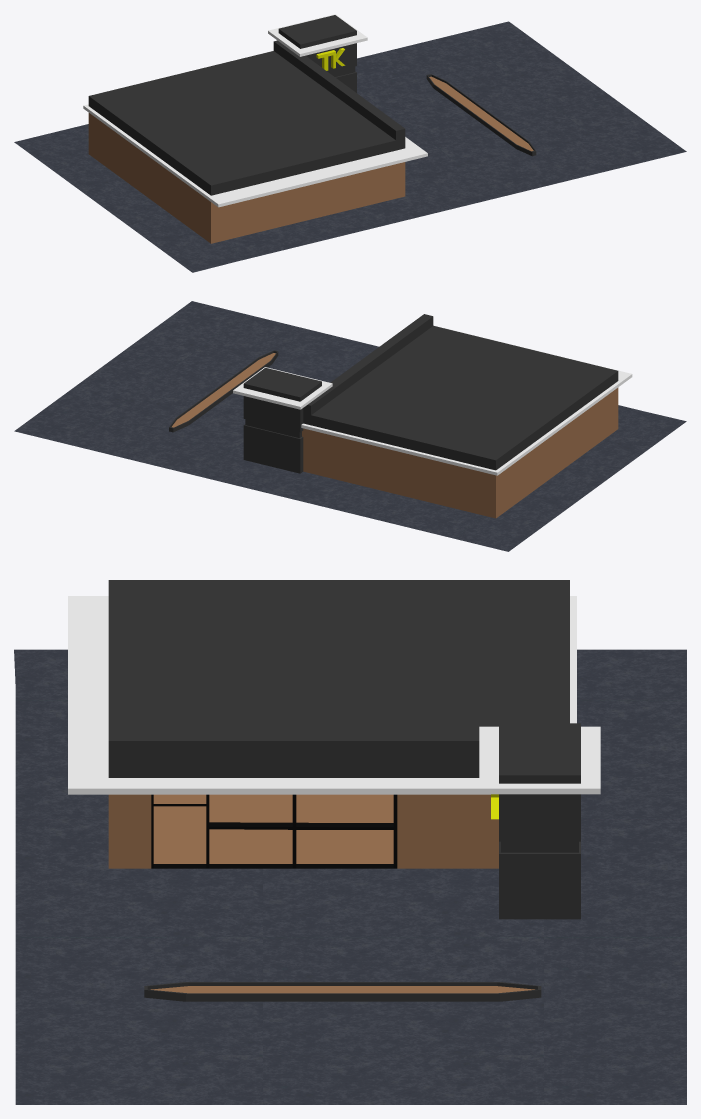
The model's file is Dinner.fbx.
The picture shows the model from 3 angles, top to bottom: view 1: azimuth 30°, elevation 25°; view 2: azimuth 150°, elevation 25°; view 3: azimuth 270°, elevation 25°; orthographic projection. The views are drawn at different scales.
Visible parts, largest first — view 1: Plane, Cube.013, Cube.002, Cube.007; view 2: Plane, Cube.013, Cube.002, Cube.007; view 3: Plane, Cube.013, Cube.002, Cube.007.
Boxes of the visible parts, bbox=[...] form: Plane: bbox=[14, 21, 686, 272]; Cube.013: bbox=[83, 40, 427, 243]; Cube.002: bbox=[268, 14, 367, 92]; Cube.007: bbox=[426, 74, 536, 156]; Plane: bbox=[14, 301, 686, 551]; Cube.013: bbox=[301, 314, 632, 518]; Cube.002: bbox=[233, 367, 332, 473]; Cube.007: bbox=[169, 350, 278, 432]; Plane: bbox=[14, 649, 686, 1104]; Cube.013: bbox=[68, 580, 576, 868]; Cube.002: bbox=[479, 723, 600, 919]; Cube.007: bbox=[144, 982, 541, 1001].
Size of the model in its own units: 4783 by 867 by 2989.
